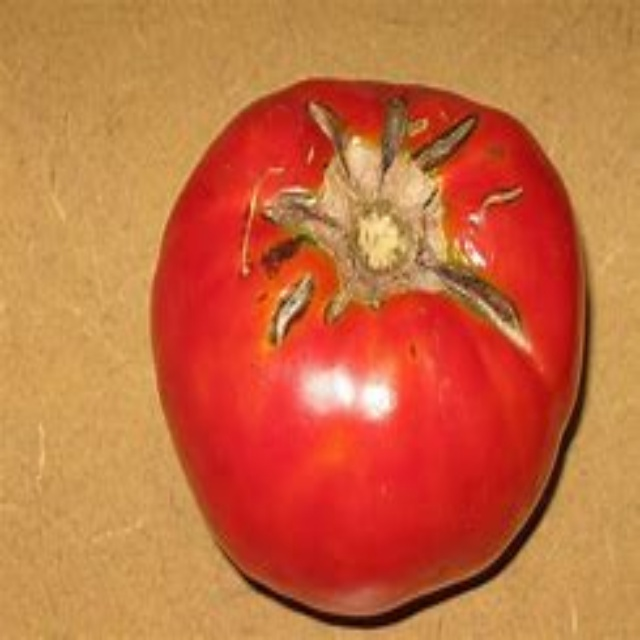tomato: (144, 70, 597, 622)
